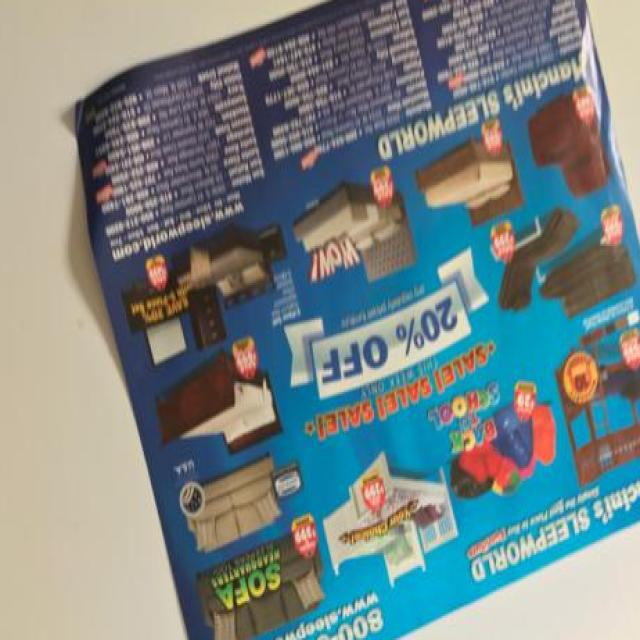kertas: (69, 0, 640, 640)
